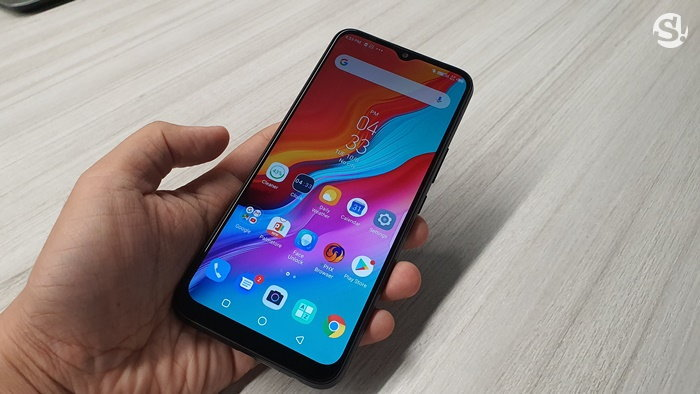phone: (165, 21, 482, 392)
